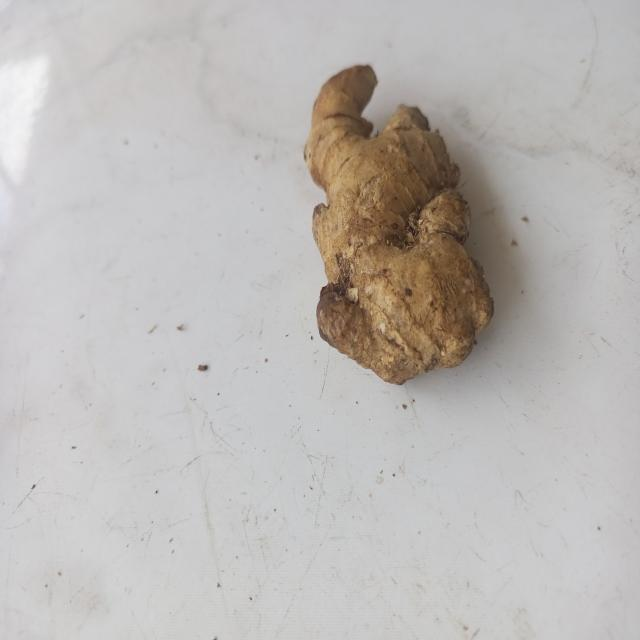ginger: (304, 62, 496, 382)
